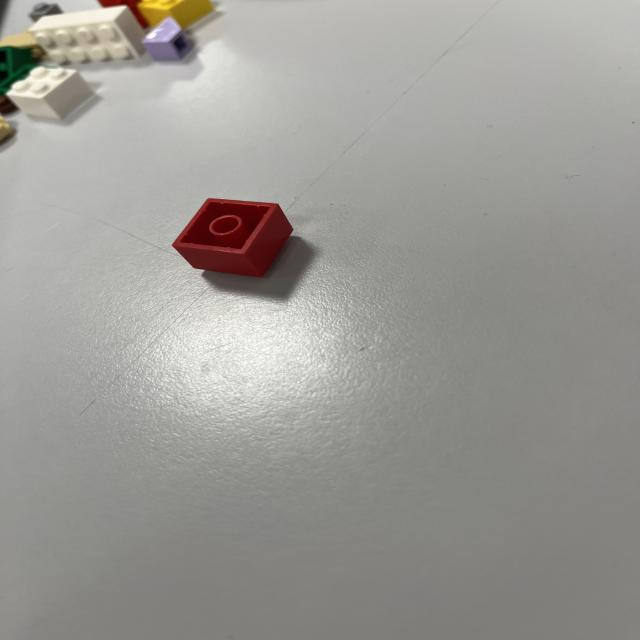C2x2x1: (176, 197, 297, 281)
